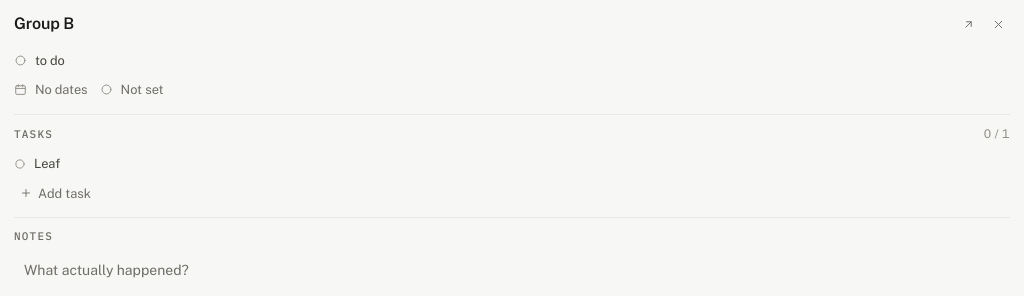
Scenario: StepPanel › abandons a title edit on Escape
Click the button named "Rename task \"Group B\"".
click(44, 24)  # box [14,12,950,36]
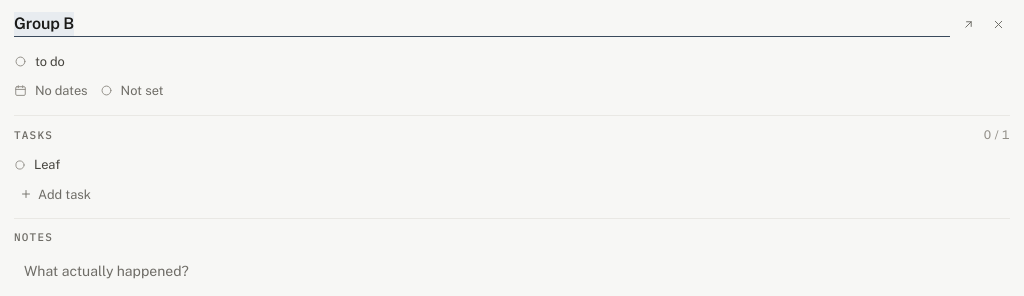
Replace the text in the field showing "Group B" with "Discarded B" at (482, 24), box [14,12,950,37]
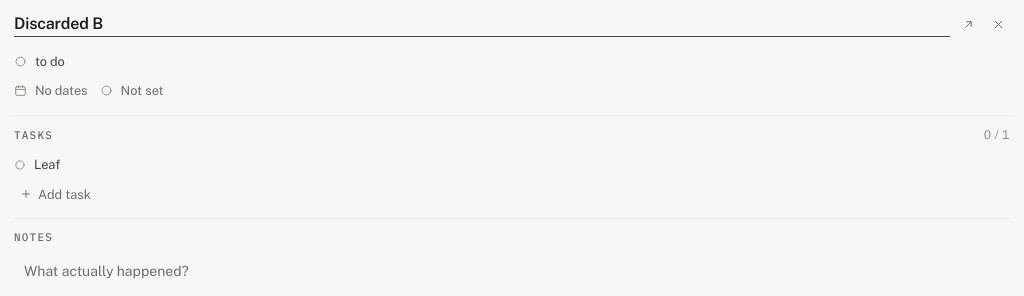
Press Escape in the field showing "Group B", box [14,12,950,37]
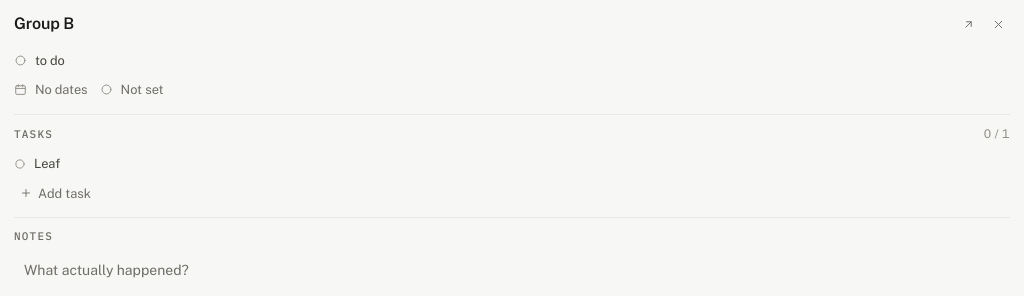
Check: the field showing "Discarded B" is not shown
Check: the button "Group B" is shown, box [14,12,950,36]
Check: the button named "Rename task \"Group B\"" reads "Group B", box [14,12,950,36]
